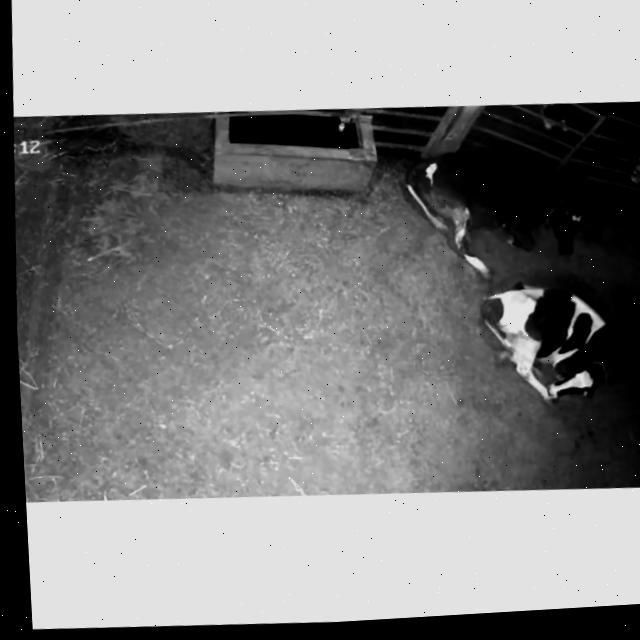lay: (397, 122, 599, 275), (453, 265, 640, 415)
